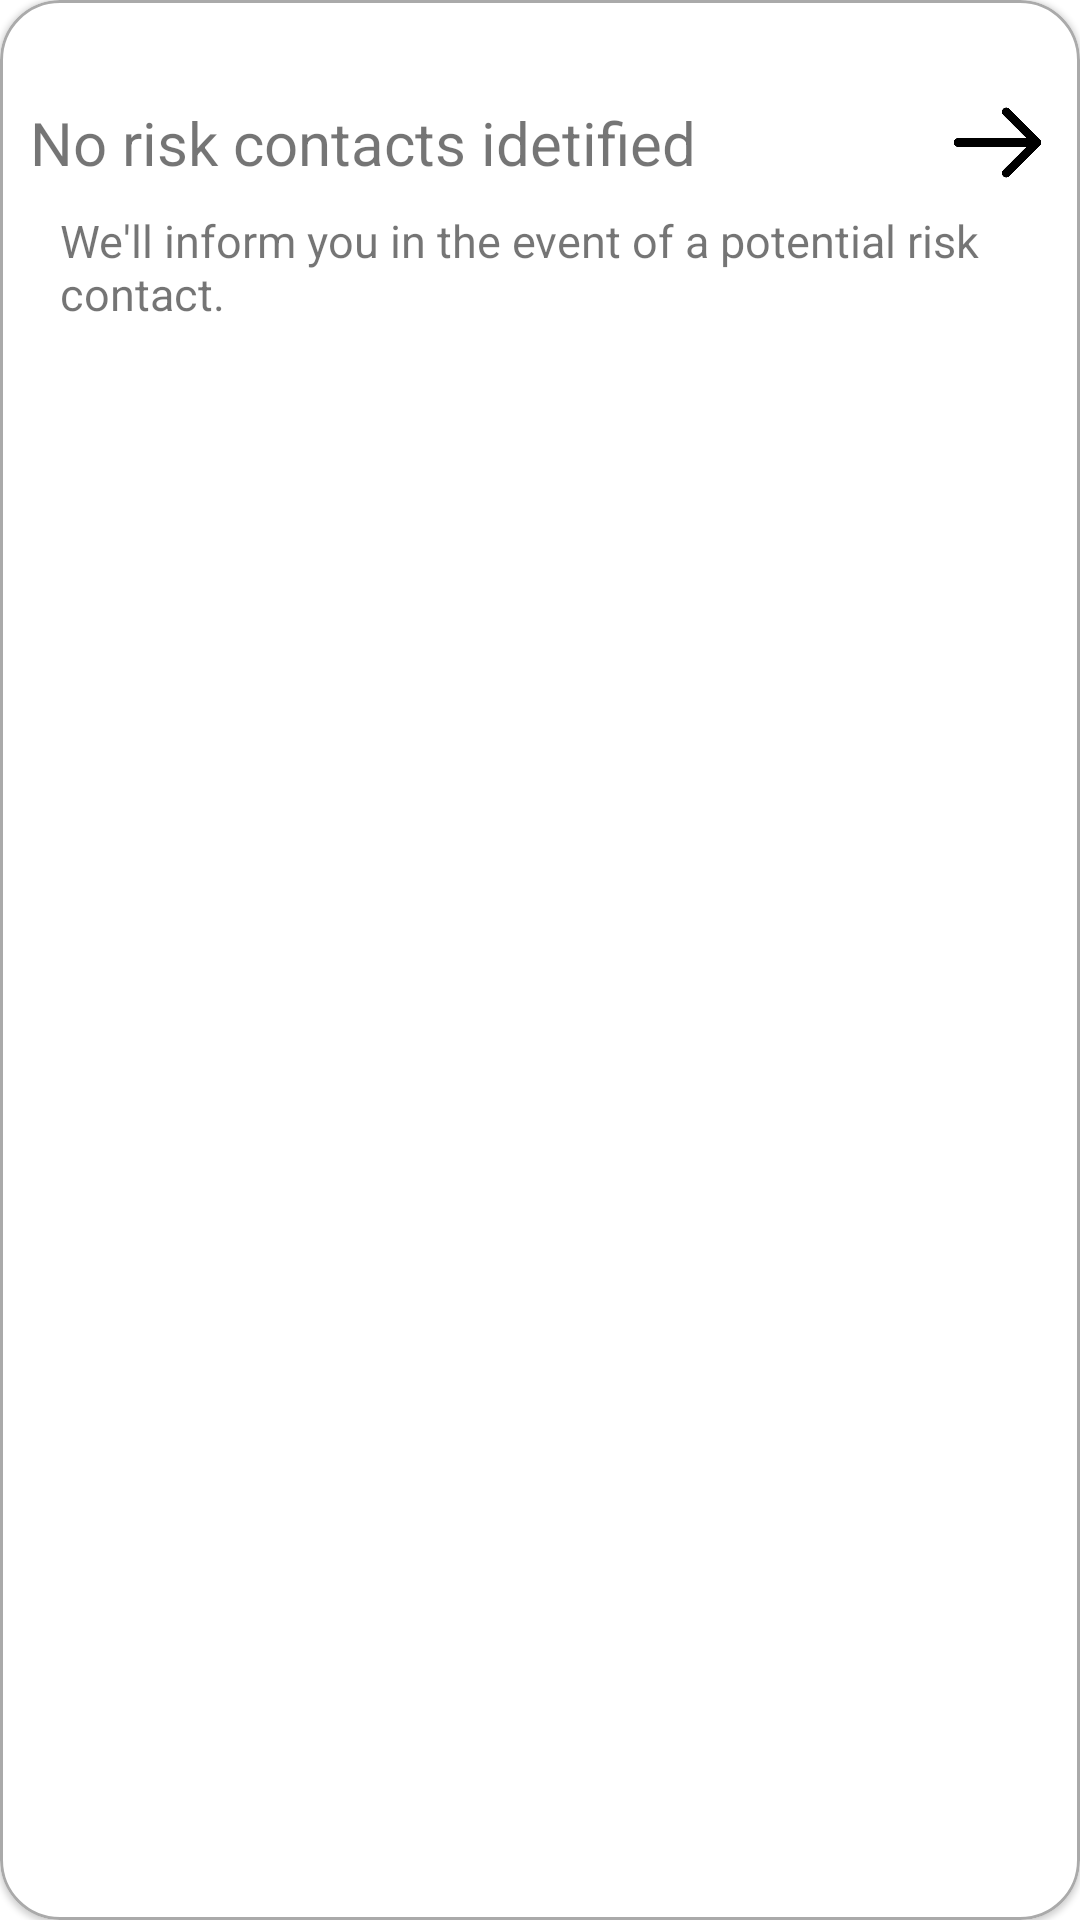

Point at icon controls on the screen. Image size 1080 × 1920, points as (x,y).
flecha: (997,142)
